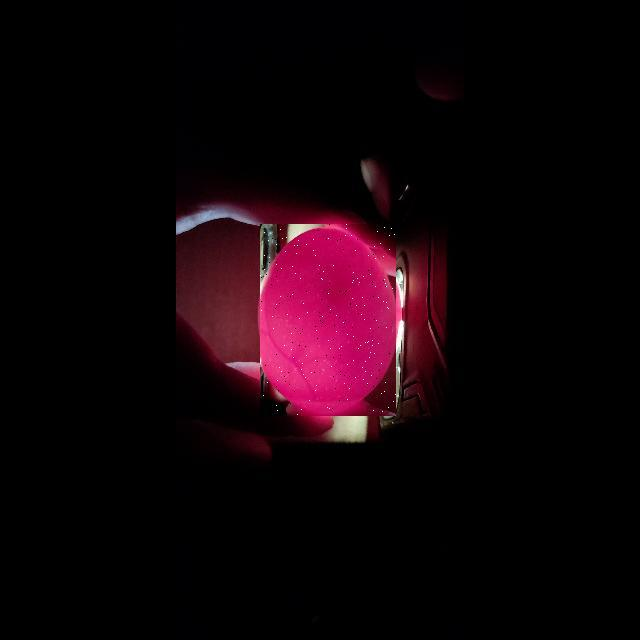Fertile: (260, 224, 396, 416)
